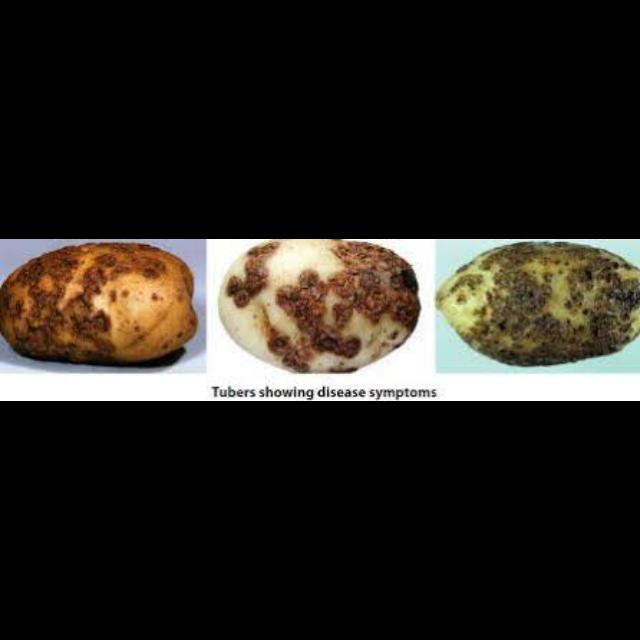Defected potato: (221, 243, 421, 383), (438, 245, 640, 377), (1, 245, 197, 377)
